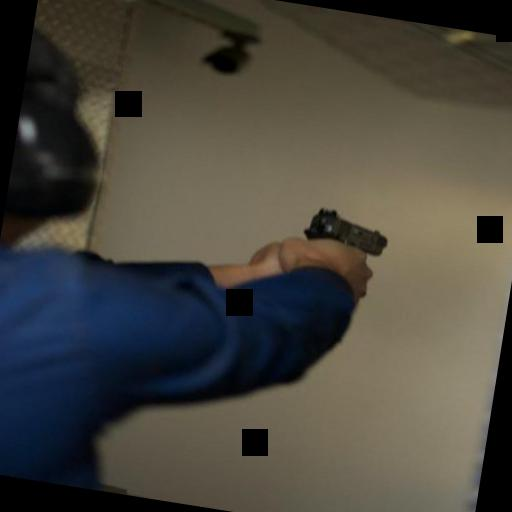Handgun: (291, 196, 397, 267)
